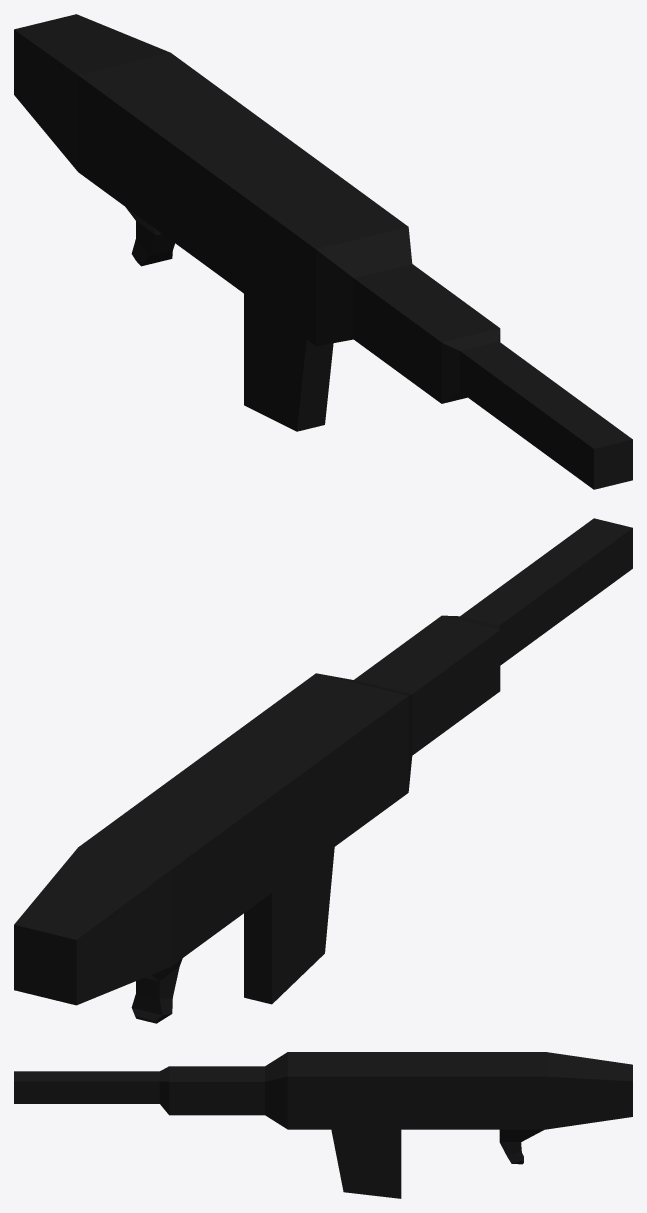
The model's file is smg.obj.
3 renders of one model, top to bottom at view 1: azimuth 30°, elevation 25°; view 2: azimuth 150°, elevation 25°; view 3: azimuth 270°, elevation 25°, orthographic. The views are drawn at different scales.
Parts seen in each view (by area): view 1: Cube; view 2: Cube; view 3: Cube.
Part boxes in pixels (bbox=[...]): Cube: bbox=[14, 14, 632, 489]; Cube: bbox=[14, 518, 632, 1023]; Cube: bbox=[14, 1052, 632, 1198].
Bounding box in the file's own units: 0.1327 × 0.3286 × 1.41.
Materials: 1 (1 with a texture image).
